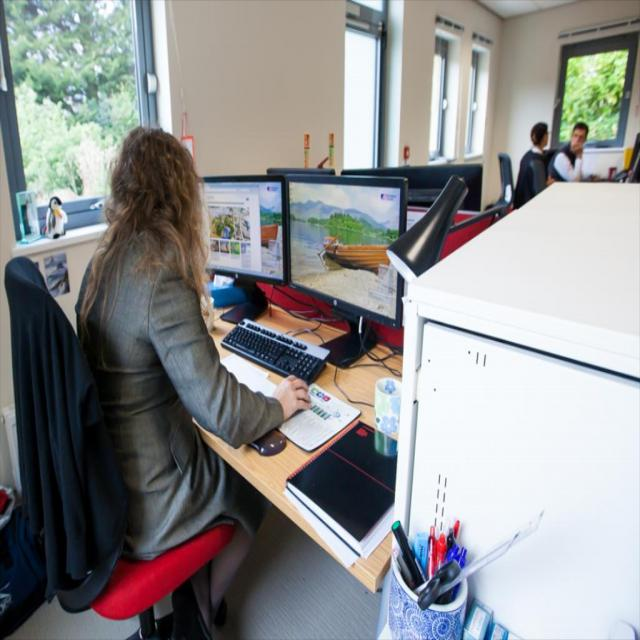chair: (2, 254, 242, 634)
desk: (193, 300, 402, 593)
keyboard: (220, 317, 330, 387)
mouse: (249, 428, 287, 456)
person: (75, 127, 312, 588), (512, 121, 550, 210), (547, 120, 589, 185)
tv: (280, 172, 410, 332), (201, 174, 288, 289), (387, 175, 469, 289)
